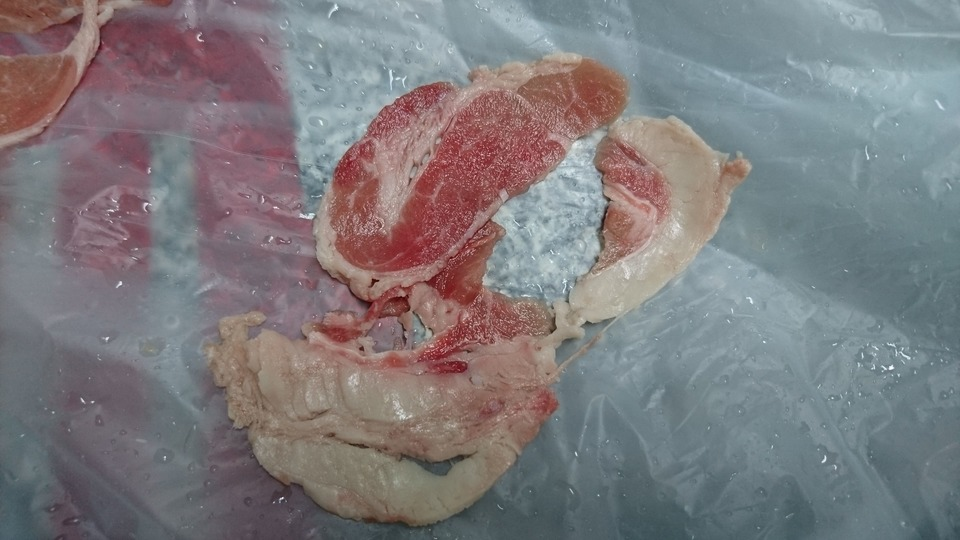restructured meat: (193, 43, 732, 509)
